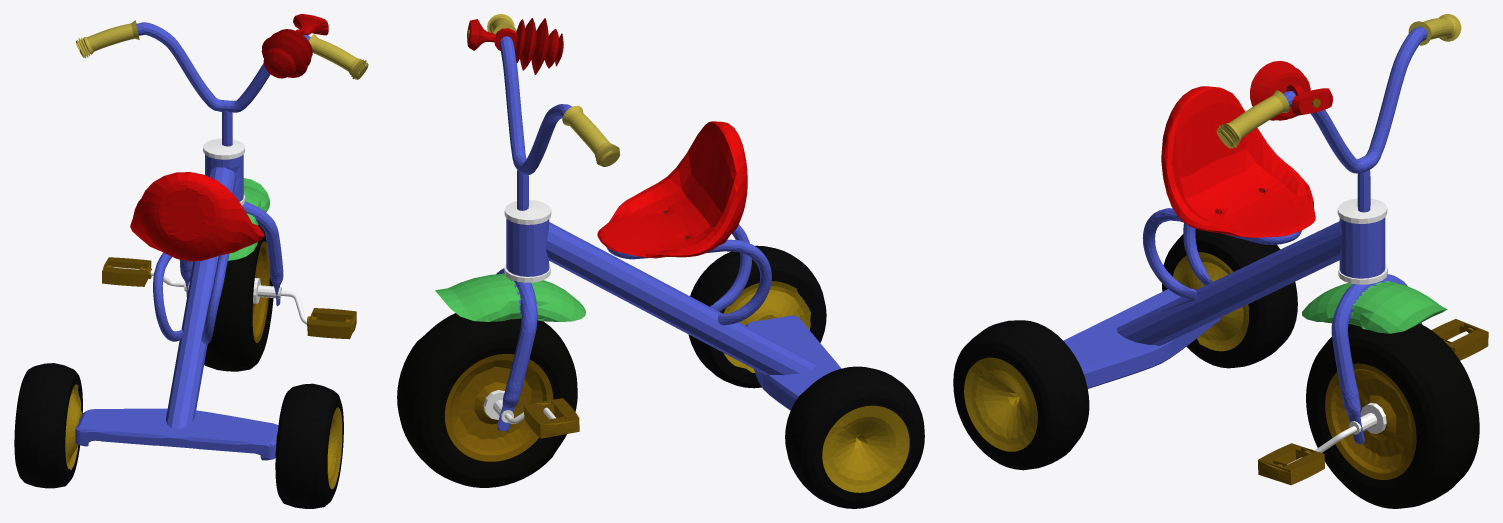
Rendered from cena_01_tric.dae.
3 views of the same model, side by side, from view 1: azimuth 30°, elevation 25°; view 2: azimuth 150°, elevation 25°; view 3: azimuth 270°, elevation 25° (orthographic). The views are drawn at different scales.
Visible parts, largest first — view 1: tricicl_roda; view 2: tricicl_roda; view 3: tricicl_roda.
Part boxes in pixels (left/top/right/bottom): tricicl_roda: left=14, top=14, right=368, bottom=508; tricicl_roda: left=397, top=14, right=924, bottom=508; tricicl_roda: left=953, top=14, right=1488, bottom=508.
Size of the model in its own units: 2.46 by 2.5 by 2.31.
